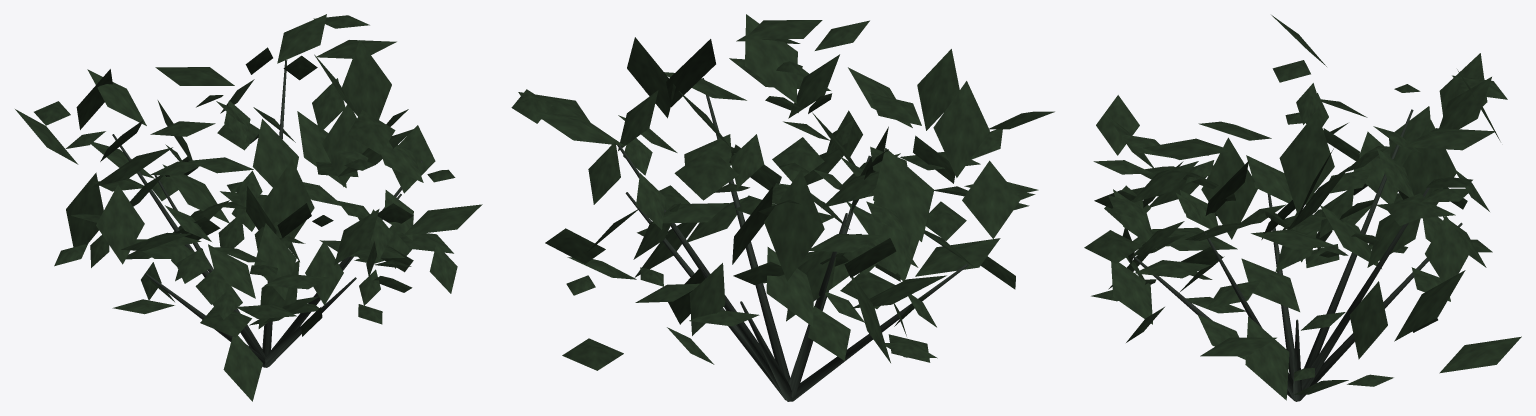
File: bush.glb
3 views of the same model, side by side, from view 1: azimuth 30°, elevation 25°; view 2: azimuth 150°, elevation 25°; view 3: azimuth 270°, elevation 25° (orthographic). The views are drawn at different scales.
Visible parts, largest first — view 1: Shrub_leaves, Shrub_stem.001, Shrub_stem.002, Shrub_stem.003, Shrub_stem.005, Shrub_stem.004; view 2: Shrub_leaves, Shrub_stem.005, Shrub_stem.004, Shrub_stem.003, Shrub_stem.001, Shrub_stem.006, Shrub_stem; view 3: Shrub_leaves, Shrub_stem.001, Shrub_stem.003, Shrub_stem.006, Shrub_stem.004, Shrub_stem.005, Shrub_stem, Shrub_stem.002.
Boxes of the visible parts, x1,y1,x2,y2 form: Shrub_leaves: (15,14,482,401); Shrub_stem.001: (112,134,265,357); Shrub_stem.002: (265,277,356,367); Shrub_stem.003: (262,60,287,356); Shrub_stem.005: (265,160,422,366); Shrub_stem.004: (145,273,266,367); Shrub_leaves: (511,14,1054,370); Shrub_stem.005: (702,78,790,382); Shrub_stem.004: (792,264,968,401); Shrub_stem.003: (617,145,784,398); Shrub_stem.001: (788,213,847,401); Shrub_stem.006: (740,301,792,401); Shrub_stem: (625,192,785,400); Shrub_leaves: (1084,15,1521,400); Shrub_stem.001: (1301,109,1413,380); Shrub_stem.003: (1300,181,1431,399); Shrub_stem.006: (1301,222,1462,399); Shrub_stem.004: (1267,194,1294,379); Shrub_stem.005: (1204,233,1294,400); Shrub_stem: (1292,319,1301,401); Shrub_stem.002: (1133,256,1294,400).
Bounding box in the file's own units: 1.53 × 1.24 × 1.54.
2 materials, 2 textured.
